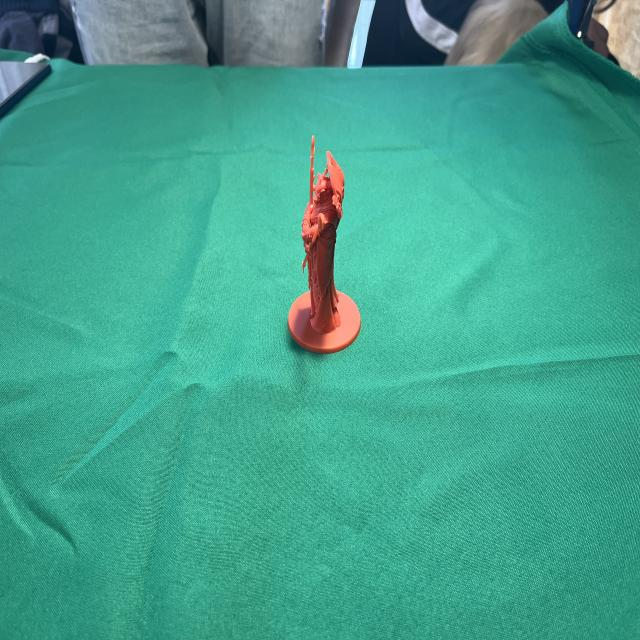amon: (284, 132, 364, 356)
